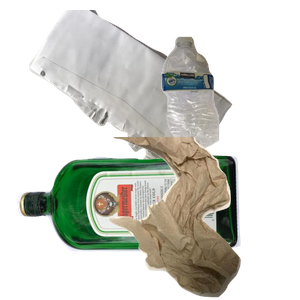glass: (14, 150, 247, 300)
paper: (27, 10, 252, 187)
plastic: (159, 34, 300, 176)
trash: (103, 137, 300, 300)
